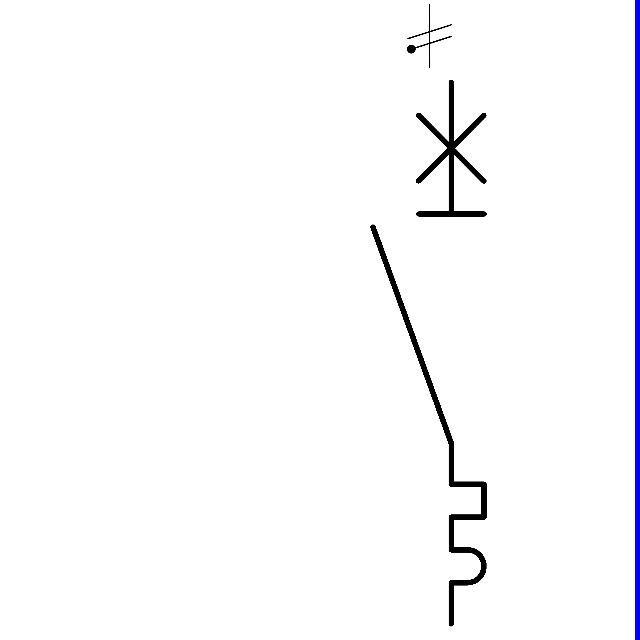interruptor_termomagnetico: (359, 68, 498, 637)
